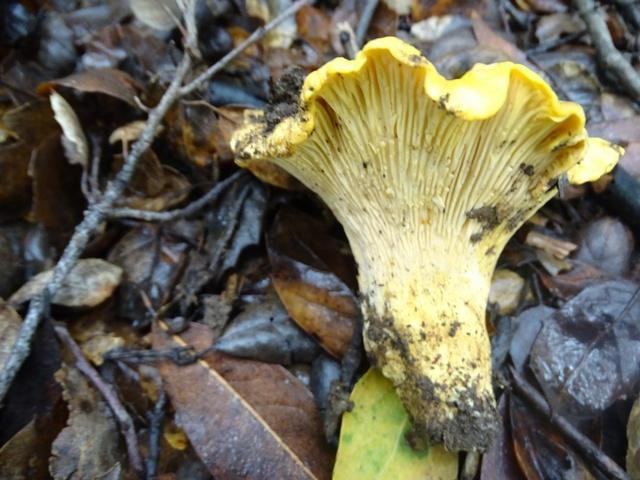edible_mushroom: (229, 35, 598, 457)
